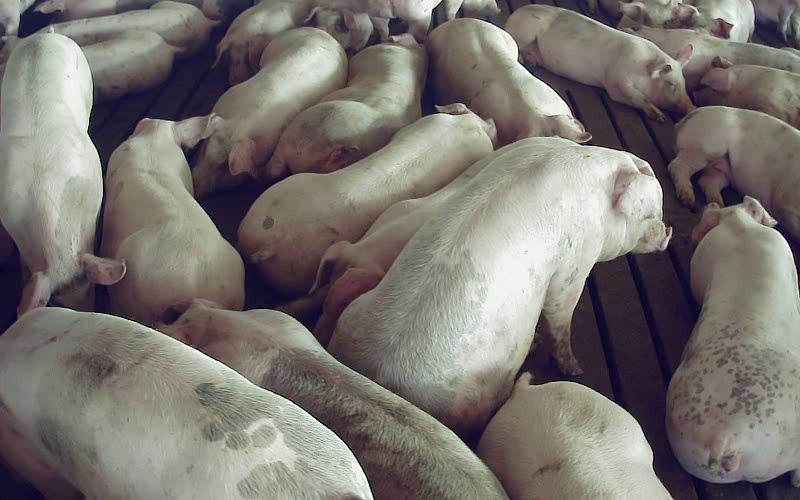pig: (159, 302, 505, 499), (238, 104, 495, 293), (668, 197, 799, 485), (0, 33, 124, 314), (100, 116, 243, 324), (192, 27, 346, 195), (477, 373, 671, 499), (266, 34, 427, 178), (505, 5, 693, 120), (426, 18, 590, 145), (668, 106, 799, 241), (632, 27, 799, 89), (38, 0, 219, 57), (693, 57, 799, 128), (81, 30, 174, 101)
